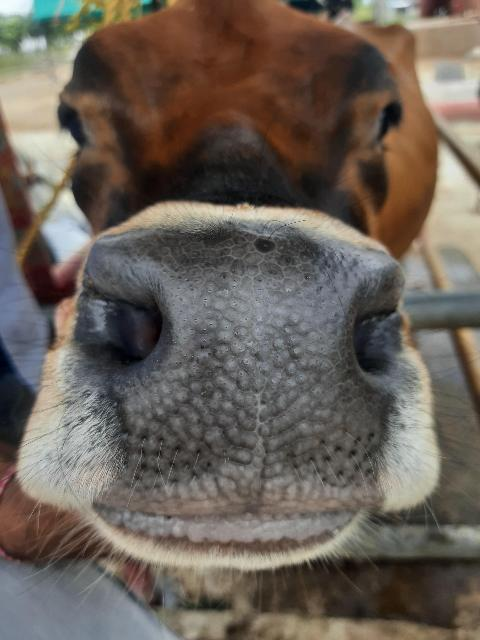Muzzle: (124, 235, 378, 510)
